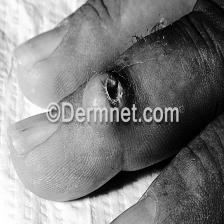Benign Marking or Mole: (83, 72, 126, 130)
